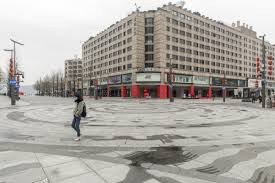mask: (71, 87, 82, 103)
